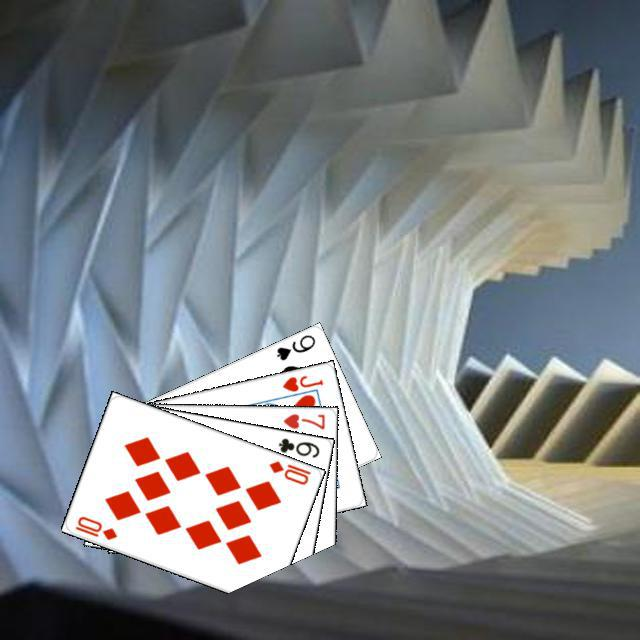10d: (264, 456, 313, 487), (70, 511, 119, 542)
6c: (273, 433, 321, 459)
7h: (278, 409, 326, 431)
9s: (272, 330, 317, 362)
Jh: (277, 370, 325, 393)
